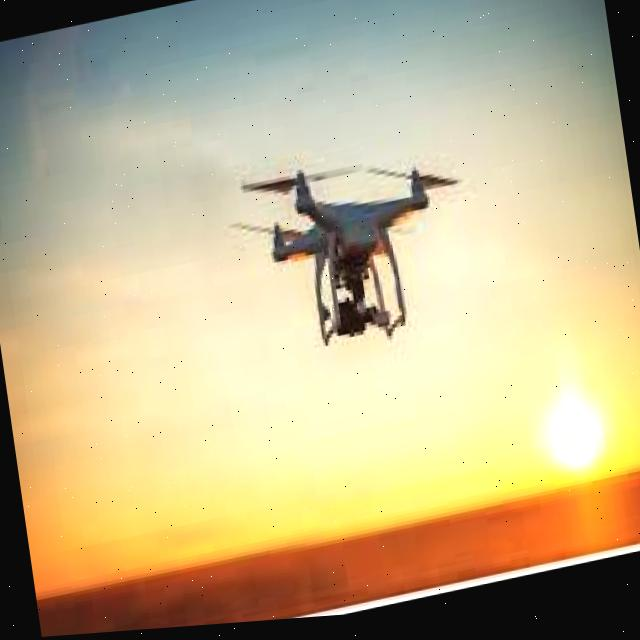drone: (218, 126, 476, 387)
